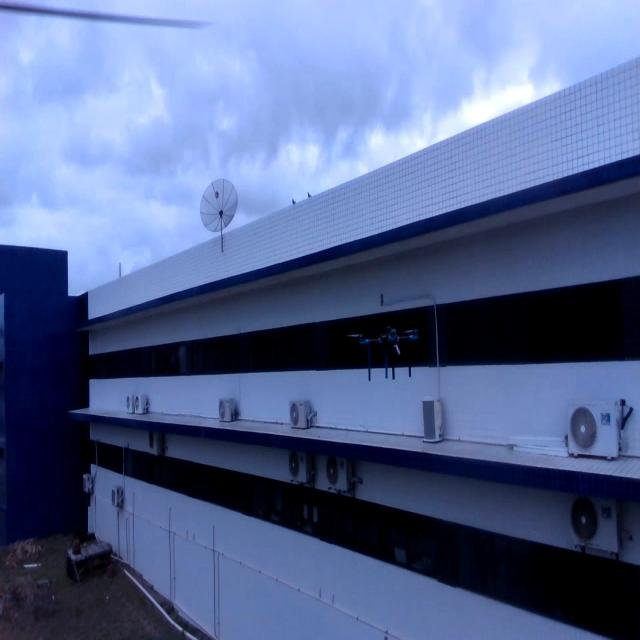-uav-: (332, 312, 443, 404)
